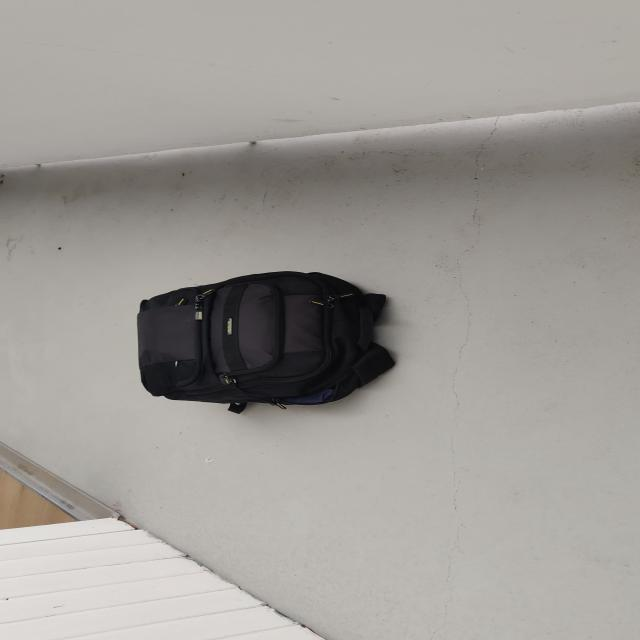backpack: (123, 261, 406, 413)
